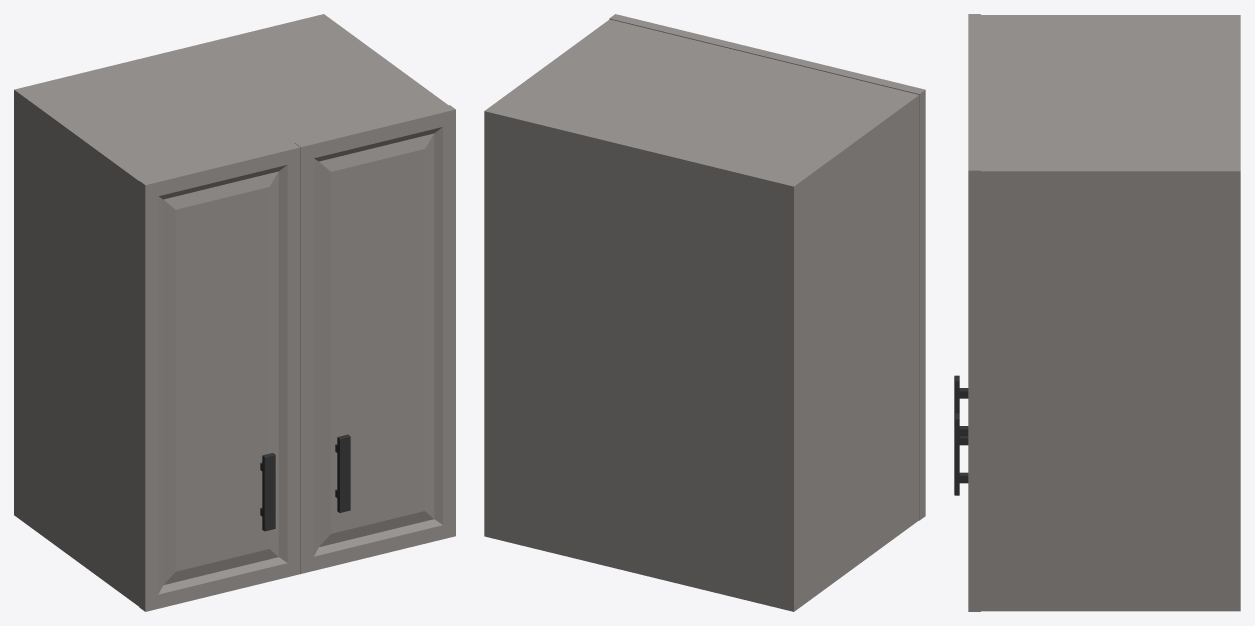
File: CabinetV2-Gray.glb
The picture shows the model from 3 angles, left to right: view 1: azimuth 30°, elevation 25°; view 2: azimuth 150°, elevation 25°; view 3: azimuth 270°, elevation 25°; orthographic projection. The views are drawn at different scales.
Visible parts, largest first — view 1: Cube.034, Cube.036, Cube.035, DoorHandle.010, DoorHandle.009; view 2: Cube.034, Cube.036, Cube.035; view 3: Cube.034, Cube.035, Cube.036, DoorHandle.010, DoorHandle.009.
Part boxes in pixels (x1,y1,x2,y2): Cube.034: (14, 14, 447, 606); Cube.036: (139, 143, 300, 611); Cube.035: (295, 105, 455, 573); DoorHandle.010: (335, 434, 350, 512); DoorHandle.009: (260, 453, 275, 531); Cube.034: (484, 19, 919, 611); Cube.036: (764, 52, 925, 520); Cube.035: (609, 14, 769, 56); Cube.034: (981, 15, 1240, 611); Cube.035: (968, 92, 980, 611); Cube.036: (968, 14, 980, 92); DoorHandle.010: (954, 413, 968, 495); DoorHandle.009: (954, 375, 968, 445).
Size of the model in its own units: 0.731 by 0.96 by 0.5639.
2 materials, 1 textured.
